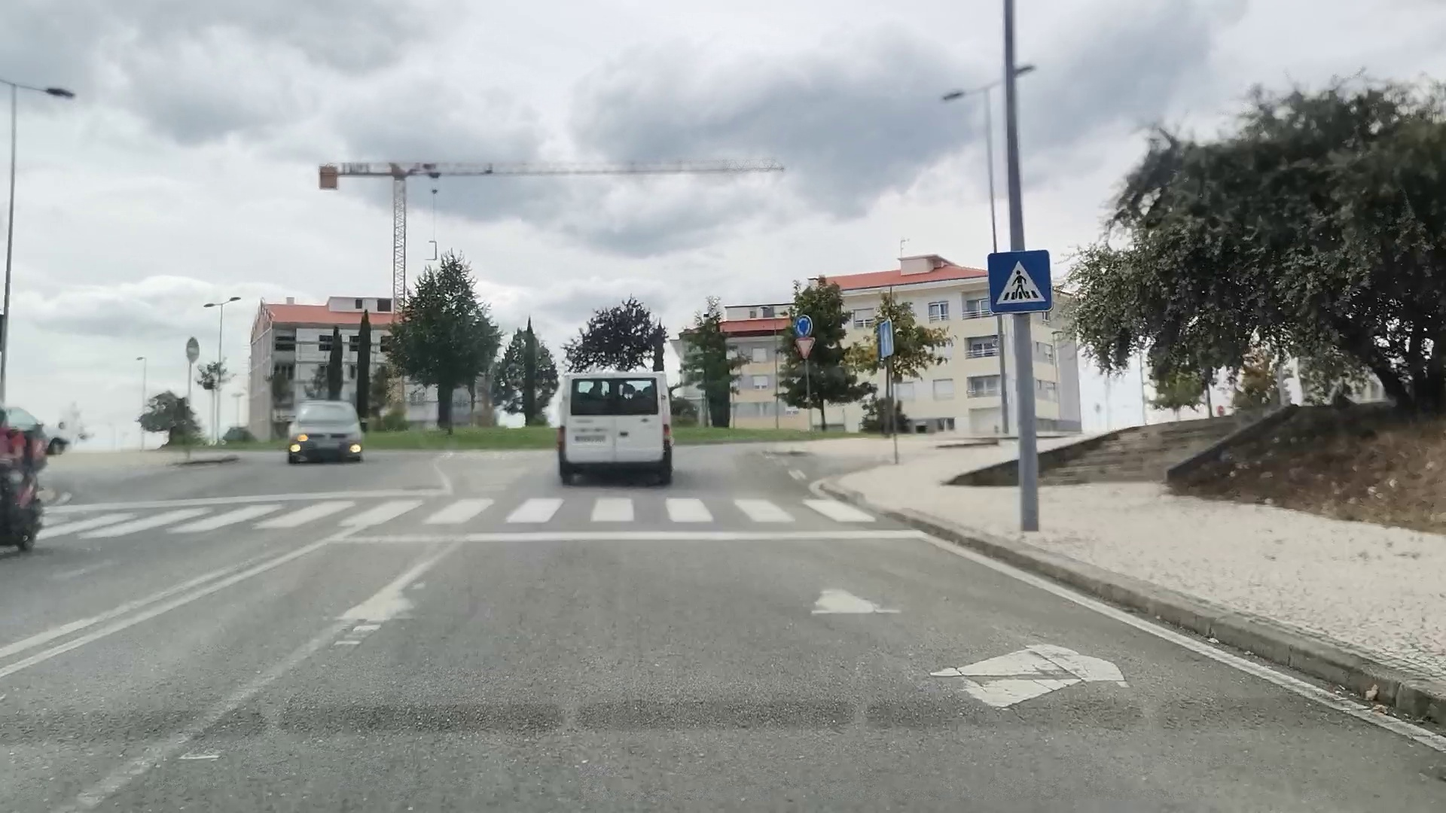Stairs: (33, 496, 879, 528)
